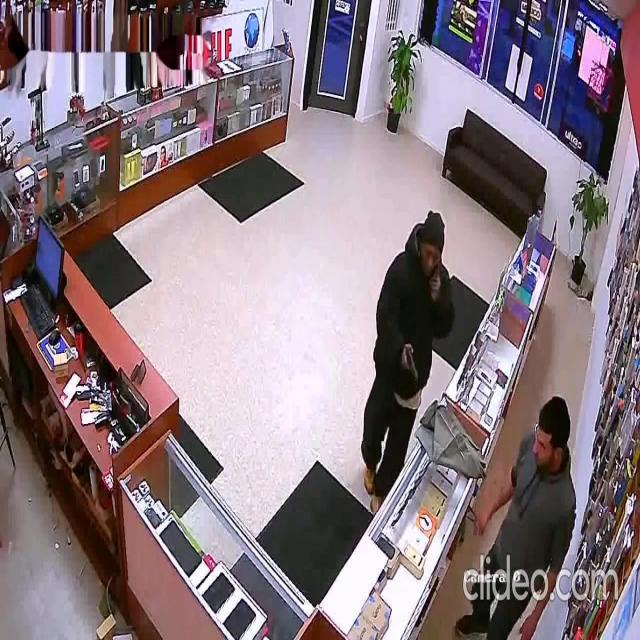gun: (454, 394, 577, 640), (361, 206, 455, 516), (405, 343, 419, 384)
